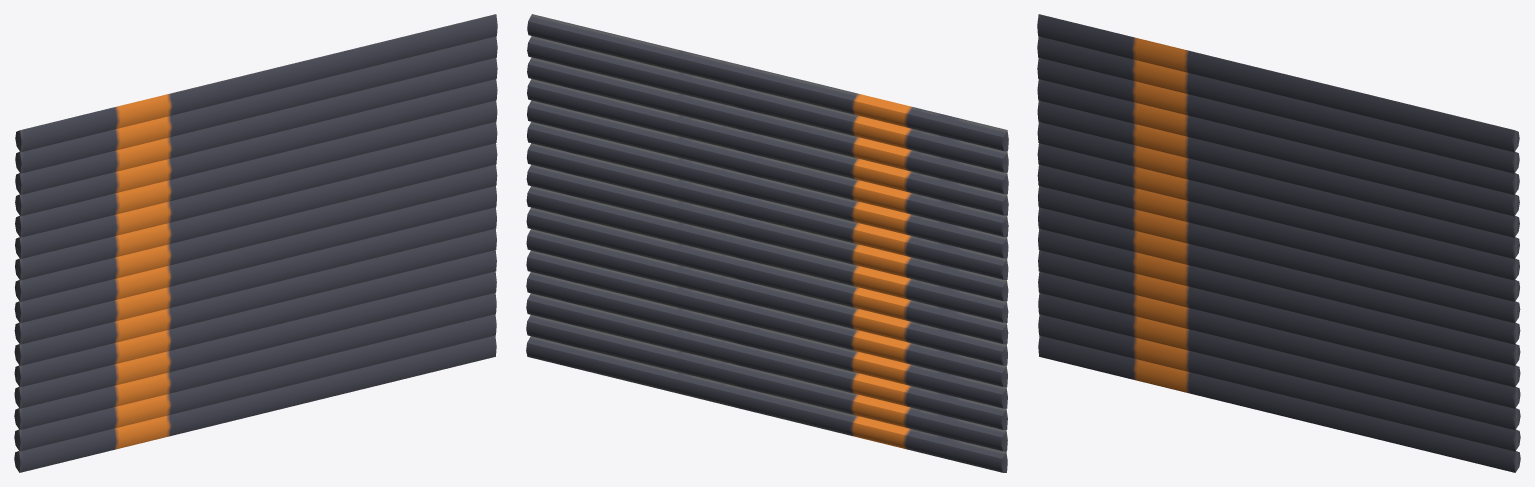
The model's file is Pfb_Soda_RollingShutterDoor__2.fbx.
The picture shows the model from 3 angles, left to right: view 1: azimuth 30°, elevation 25°; view 2: azimuth 150°, elevation 25°; view 3: azimuth 330°, elevation 25°; orthographic projection.
Parts seen in each view (by area): view 1: MAT_RollingShutterDoor_01; view 2: MAT_RollingShutterDoor_01; view 3: MAT_RollingShutterDoor_01.
Boxes of the visible parts, box(x1,y1,x2,y2) form: MAT_RollingShutterDoor_01: box(14, 14, 497, 472); MAT_RollingShutterDoor_01: box(526, 14, 1008, 472); MAT_RollingShutterDoor_01: box(1037, 14, 1520, 472).
Size of the model in its own units: 3.65 by 2.52 by 0.1063.
Materials: 1 (1 with a texture image).
